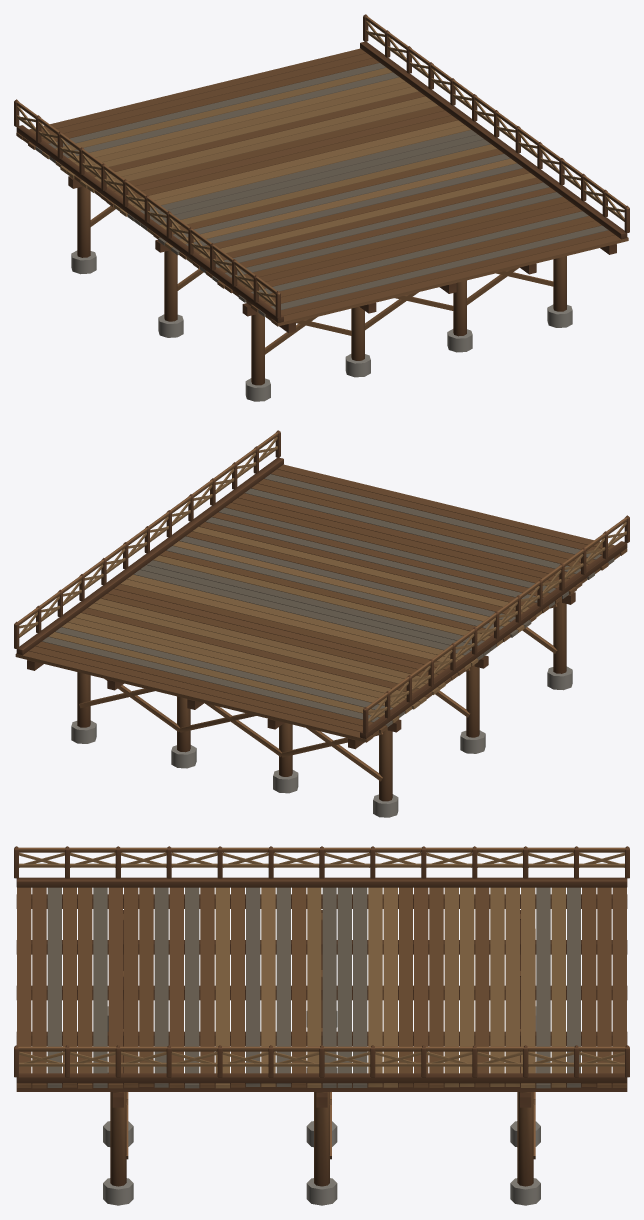
The model's file is prop.bridge_wood.glb.
3 renders of one model, top to bottom at view 1: azimuth 30°, elevation 25°; view 2: azimuth 150°, elevation 25°; view 3: azimuth 270°, elevation 25°, orthographic. The views are drawn at different scales.
Parts seen in each view (by area): view 1: deck, supports, railing_l, railing_r; view 2: deck, supports, railing_l, railing_r; view 3: deck, railing_l, railing_r, supports.
Part boxes in pixels (x1,y1,x2,y2): deck: (16, 41, 628, 333); supports: (68, 176, 572, 401); railing_l: (363, 14, 629, 233); railing_r: (14, 99, 280, 318); deck: (15, 457, 627, 749); supports: (71, 592, 575, 817); railing_l: (14, 430, 280, 649); railing_r: (363, 515, 629, 734); deck: (16, 877, 627, 1091); railing_l: (14, 1045, 629, 1077); railing_r: (14, 846, 629, 878); supports: (103, 910, 540, 1205).
Size of the model in its own units: 18.76 by 7.25 by 24.2.
